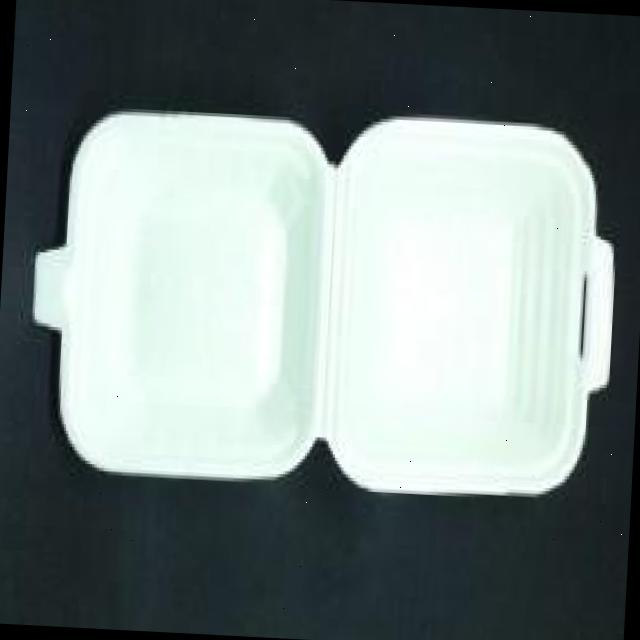styrofoam: (22, 91, 625, 504)
